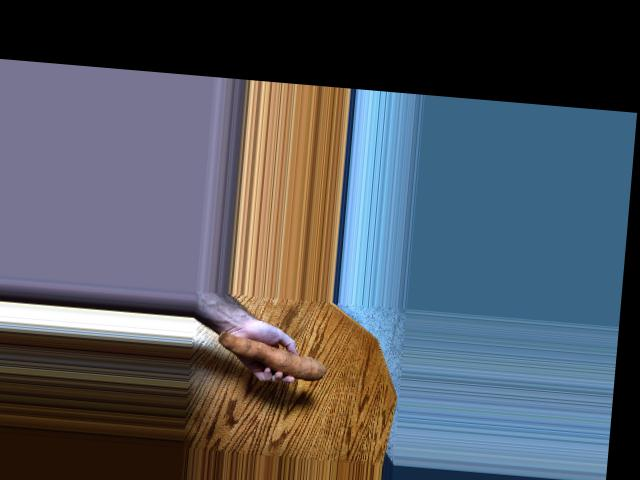sweet_potato: (219, 335, 331, 384)
